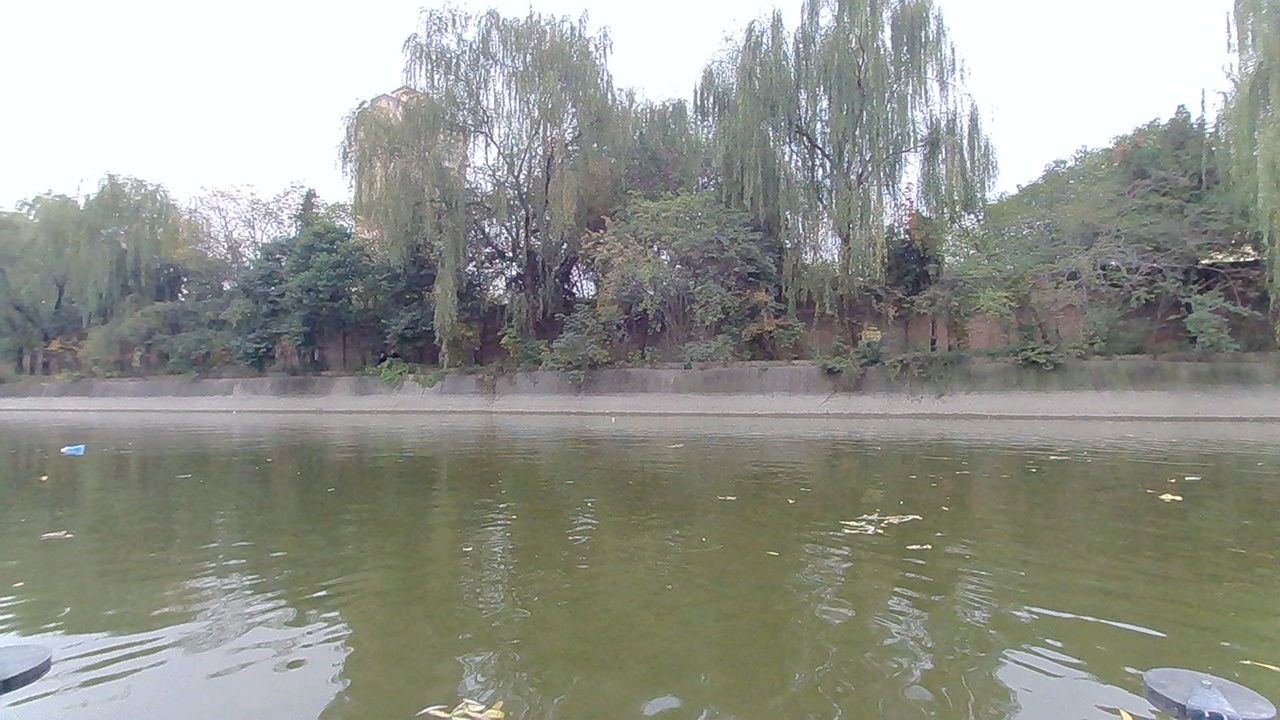bottle: (62, 438, 95, 462)
